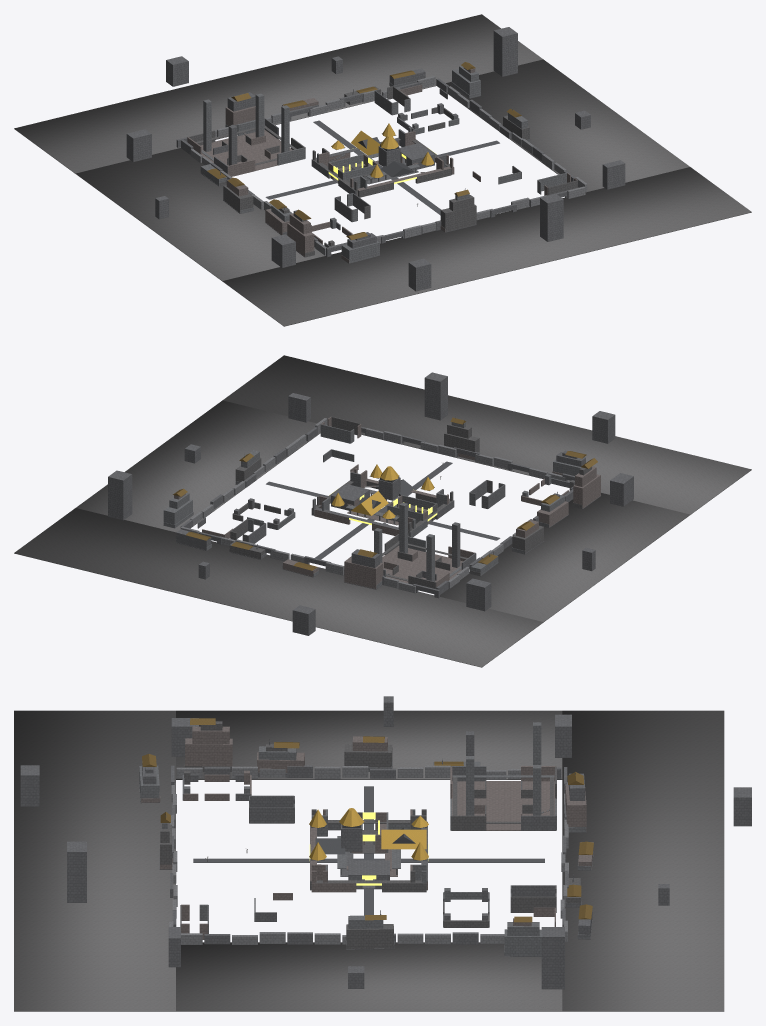
3 renders of one model, top to bottom at view 1: azimuth 30°, elevation 25°; view 2: azimuth 150°, elevation 25°; view 3: azimuth 270°, elevation 25°, orthographic. The views are drawn at different scales.
Parts seen in each view (by area): view 1: HB_z04_LOD2_terrain, HB_z04_LOD2_wall_alt, HB_z04_LOD2_wall_cool, HB_z04_LOD2_wall, HB_z04_LOD2_wall_weathered, HB_z04_LOD2_wall_warm, HB_z04_LOD2_LANDMARK_1_wall_warm, HB_z04_LOD2_LANDMARK_1_wall_cool, HB_z04_LOD2_LANDMARK_0_wall_alt, HB_z04_LOD2_LANDMARK_0_wall_cool, HB_z04_LOD2_road, HB_z04_LOD2_roof (+5 smaller); view 2: HB_z04_LOD2_terrain, HB_z04_LOD2_wall_alt, HB_z04_LOD2_wall, HB_z04_LOD2_wall_warm, HB_z04_LOD2_wall_cool, HB_z04_LOD2_wall_weathered, HB_z04_LOD2_LANDMARK_1_wall_warm, HB_z04_LOD2_LANDMARK_0_wall_alt, HB_z04_LOD2_LANDMARK_1_wall_cool, HB_z04_LOD2_LANDMARK_0_wall_warm, HB_z04_LOD2_roof, HB_z04_LOD2_road (+5 smaller); view 3: HB_z04_LOD2_terrain, HB_z04_LOD2_wall_alt, HB_z04_LOD2_wall, HB_z04_LOD2_wall_warm, HB_z04_LOD2_wall_weathered, HB_z04_LOD2_wall_cool, HB_z04_LOD2_LANDMARK_1_wall_warm, HB_z04_LOD2_road, HB_z04_LOD2_roof, HB_z04_LOD2_LANDMARK_0_accent, HB_z04_LOD2_LANDMARK_0_wall_alt, HB_z04_LOD2_LANDMARK_1_wall_cool (+6 smaller).
Part boxes in pixels (x1,y1,x2,y2): HB_z04_LOD2_terrain: (14, 14, 751, 326); HB_z04_LOD2_wall_alt: (126, 27, 625, 291); HB_z04_LOD2_wall_cool: (200, 65, 566, 262); HB_z04_LOD2_wall: (190, 76, 587, 255); HB_z04_LOD2_wall_weathered: (219, 86, 577, 256); HB_z04_LOD2_wall_warm: (225, 67, 577, 262); HB_z04_LOD2_LANDMARK_1_wall_warm: (187, 130, 292, 176); HB_z04_LOD2_LANDMARK_1_wall_cool: (201, 93, 305, 165); HB_z04_LOD2_LANDMARK_0_wall_alt: (316, 137, 446, 194); HB_z04_LOD2_LANDMARK_0_wall_cool: (311, 127, 452, 191); HB_z04_LOD2_road: (265, 120, 499, 215); HB_z04_LOD2_roof: (207, 62, 521, 240); HB_z04_LOD2_terrain: (14, 355, 751, 667); HB_z04_LOD2_wall_alt: (108, 372, 633, 635); HB_z04_LOD2_wall: (180, 418, 565, 593); HB_z04_LOD2_wall_warm: (174, 417, 600, 588); HB_z04_LOD2_wall_cool: (163, 422, 581, 588); HB_z04_LOD2_wall_weathered: (229, 416, 591, 575); HB_z04_LOD2_LANDMARK_1_wall_warm: (382, 546, 475, 587); HB_z04_LOD2_LANDMARK_0_wall_alt: (314, 472, 454, 530); HB_z04_LOD2_LANDMARK_1_wall_cool: (374, 502, 461, 581); HB_z04_LOD2_LANDMARK_0_wall_warm: (314, 468, 449, 535); HB_z04_LOD2_roof: (173, 417, 597, 570); HB_z04_LOD2_road: (266, 461, 500, 559); HB_z04_LOD2_terrain: (14, 710, 724, 1011); HB_z04_LOD2_wall_alt: (20, 696, 751, 989); HB_z04_LOD2_wall: (169, 765, 568, 944); HB_z04_LOD2_wall_warm: (141, 726, 593, 939); HB_z04_LOD2_wall_weathered: (160, 721, 580, 948); HB_z04_LOD2_wall_cool: (139, 746, 591, 956); HB_z04_LOD2_LANDMARK_1_wall_warm: (450, 766, 555, 830); HB_z04_LOD2_road: (193, 786, 544, 915); HB_z04_LOD2_roof: (142, 718, 593, 922); HB_z04_LOD2_LANDMARK_0_accent: (309, 808, 428, 860); HB_z04_LOD2_LANDMARK_0_wall_alt: (325, 822, 427, 889); HB_z04_LOD2_LANDMARK_1_wall_cool: (450, 722, 556, 830).
Size of the model in its own units: 570 by 58.61 by 592.
Materials: 12 (11 with a texture image).
